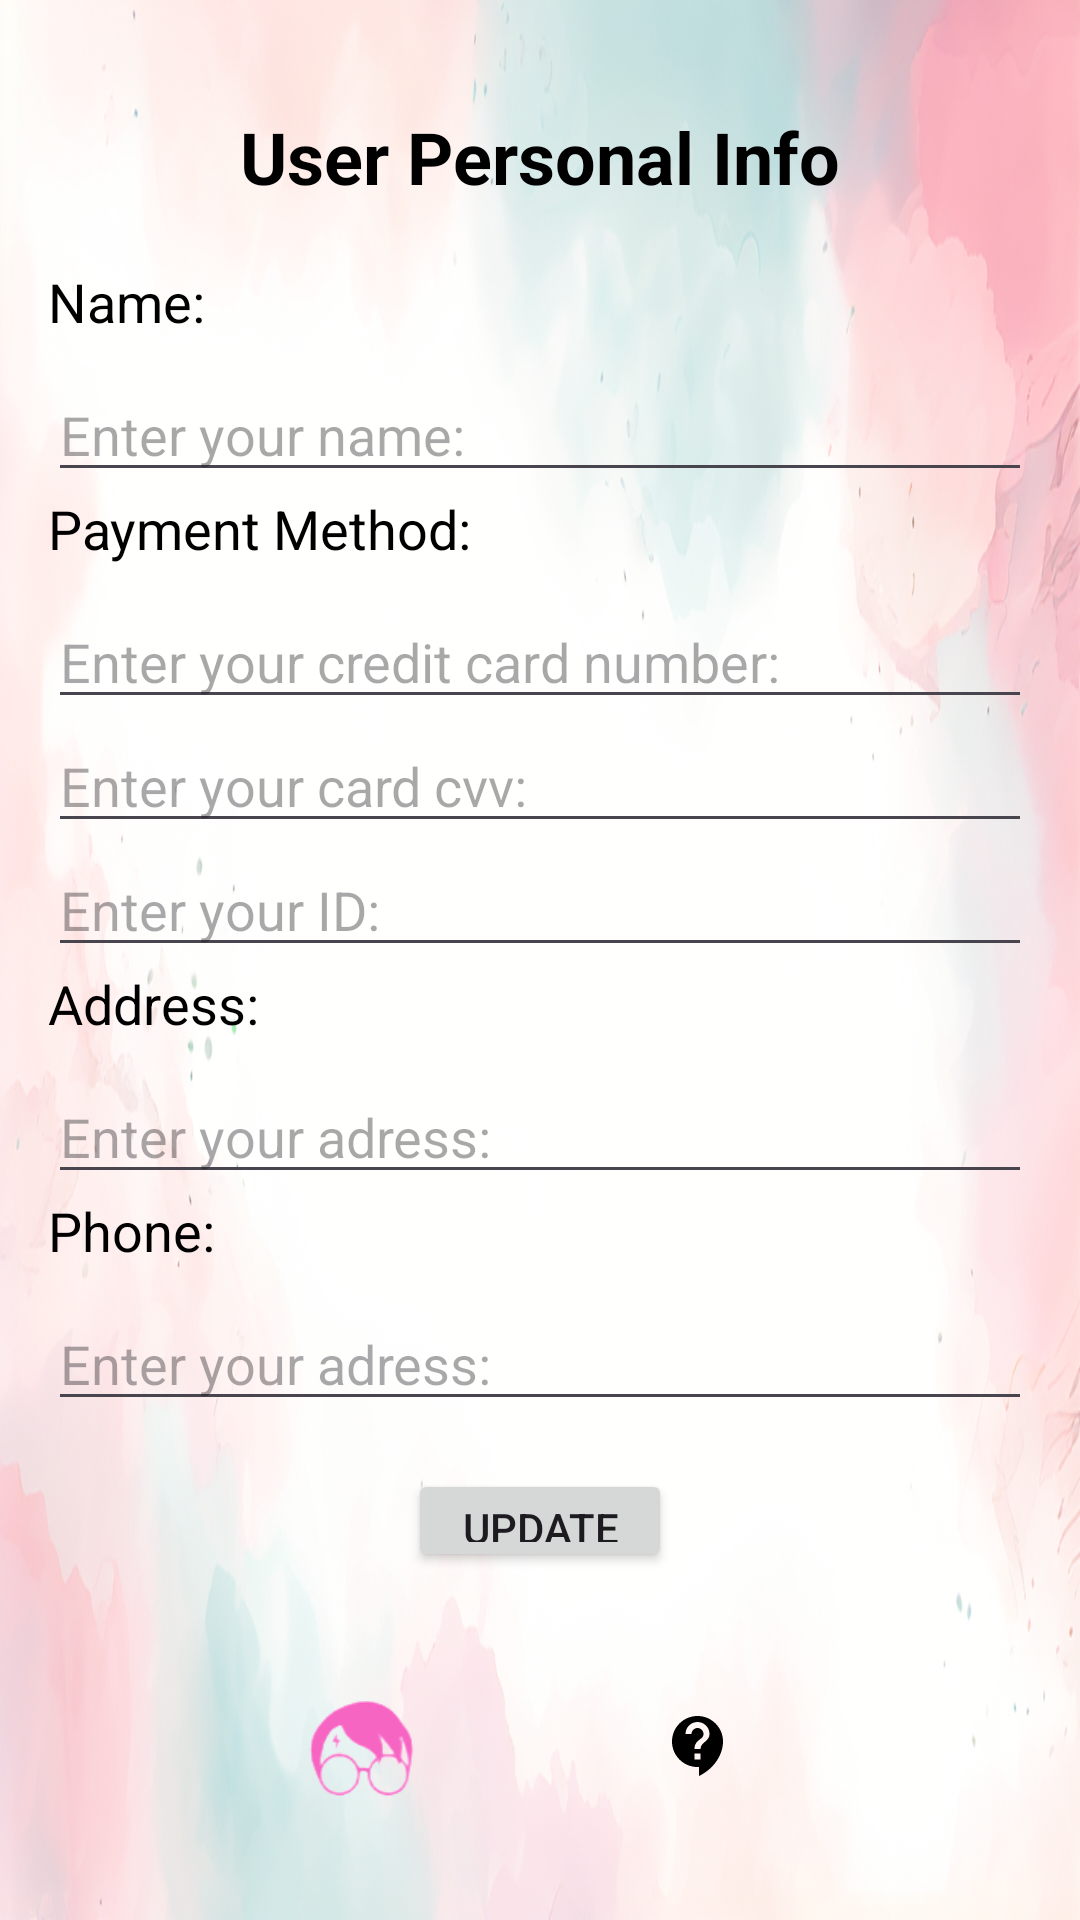

Named icons in this screenshot (1080×1920) and their centers, (x=x, y=y):
Customer Support: (x=697, y=1746)
